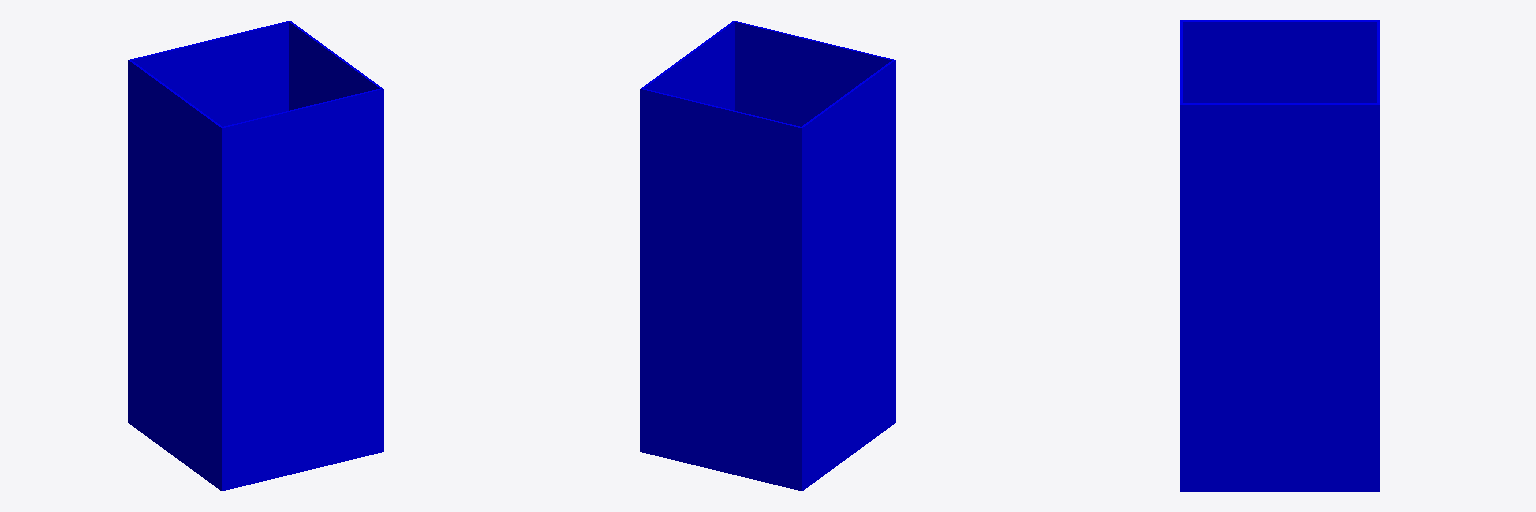
URDF robot description (sink):
<?xml version="1.0"?>
<robot name="sink">
  <link name="base_link">
     <visual>
      <origin xyz="0 0 -0.0745" rpy="0 0 0" />
      <geometry>
        <box size="0.07 0.07 0.001" />
      </geometry>
      <material name="blue">
        <color rgba="0 0 1 0.4" />
      </material>
    </visual>
    <visual>
      <origin xyz="0 0.0345 0" rpy="0 0 0" />
      <geometry>
        <box size="0.07 0.001 0.15" />
      </geometry>
      <material name="blue">
        <color rgba="0 0 1 0.4" />
      </material>
    </visual>
    <visual>
      <origin xyz="0 -0.0345 0" rpy="0 0 0" />
      <geometry>
        <box size="0.07 0.001 0.15" />
      </geometry>
      <material name="blue">
        <color rgba="0 0 1 0.4" />
      </material>
    </visual>
    <visual>
      <origin xyz="0.0345 0 0" rpy="0 0 0" />
      <geometry>
        <box size="0.001 0.07 0.15" />
      </geometry>
      <material name="blue">
        <color rgba="0 0 1 0.4" />
      </material>
    </visual>
    <visual>
      <origin xyz="-0.0345 0 0" rpy="0 0 0" />
      <geometry>
        <box size="0.001 0.07 0.15" />
      </geometry>
      <material name="blue">
        <color rgba="0 0 1 0.4" />
      </material>
    </visual>

    <collision>
      <origin xyz="0 0 -0.0745" rpy="0 0 0" />
      <geometry>
        <box size="0.07 0.07 0.001" />
      </geometry>
    </collision>
    <collision>
      <origin xyz="0 0.0345 0" rpy="0 0 0" />
      <geometry>
        <box size="0.07 0.001 0.15" />
      </geometry>
    </collision>
    <collision>
      <origin xyz="0 -0.0345 0" rpy="0 0 0" />
      <geometry>
        <box size="0.07 0.001 0.15" />
      </geometry>
    </collision>
    <collision>
      <origin xyz="0.0345 0 0" rpy="0 0 0" />
      <geometry>
        <box size="0.001 0.07 0.15" />
      </geometry>
    </collision>
    <collision>
      <origin xyz="-0.0345 0 0" rpy="0 0 0" />
      <geometry>
        <box size="0.001 0.07 0.15" />
      </geometry>
    </collision>
  </link>
</robot>

--- Facts derived from the render (not from the file) ---
The picture shows the robot from 3 angles, left to right: view 1: azimuth 30°, elevation 25°; view 2: azimuth 150°, elevation 25°; view 3: azimuth 270°, elevation 25°; orthographic projection.
Model sink with 1 links and 0 joints (none), rooted at base_link, posed every joint at zero.
Links seen in each view (by area): view 1: base_link; view 2: base_link; view 3: base_link.
Boxes of the visible links, left/top/right/bottom form: base_link: left=128, top=21, right=383, bottom=490; base_link: left=640, top=21, right=895, bottom=490; base_link: left=1180, top=20, right=1379, bottom=491.
Bounding box of the posed robot: 0.07 × 0.07 × 0.15 m (x, y, z).
Geometry: primitives only (box / cylinder / sphere), no mesh files.